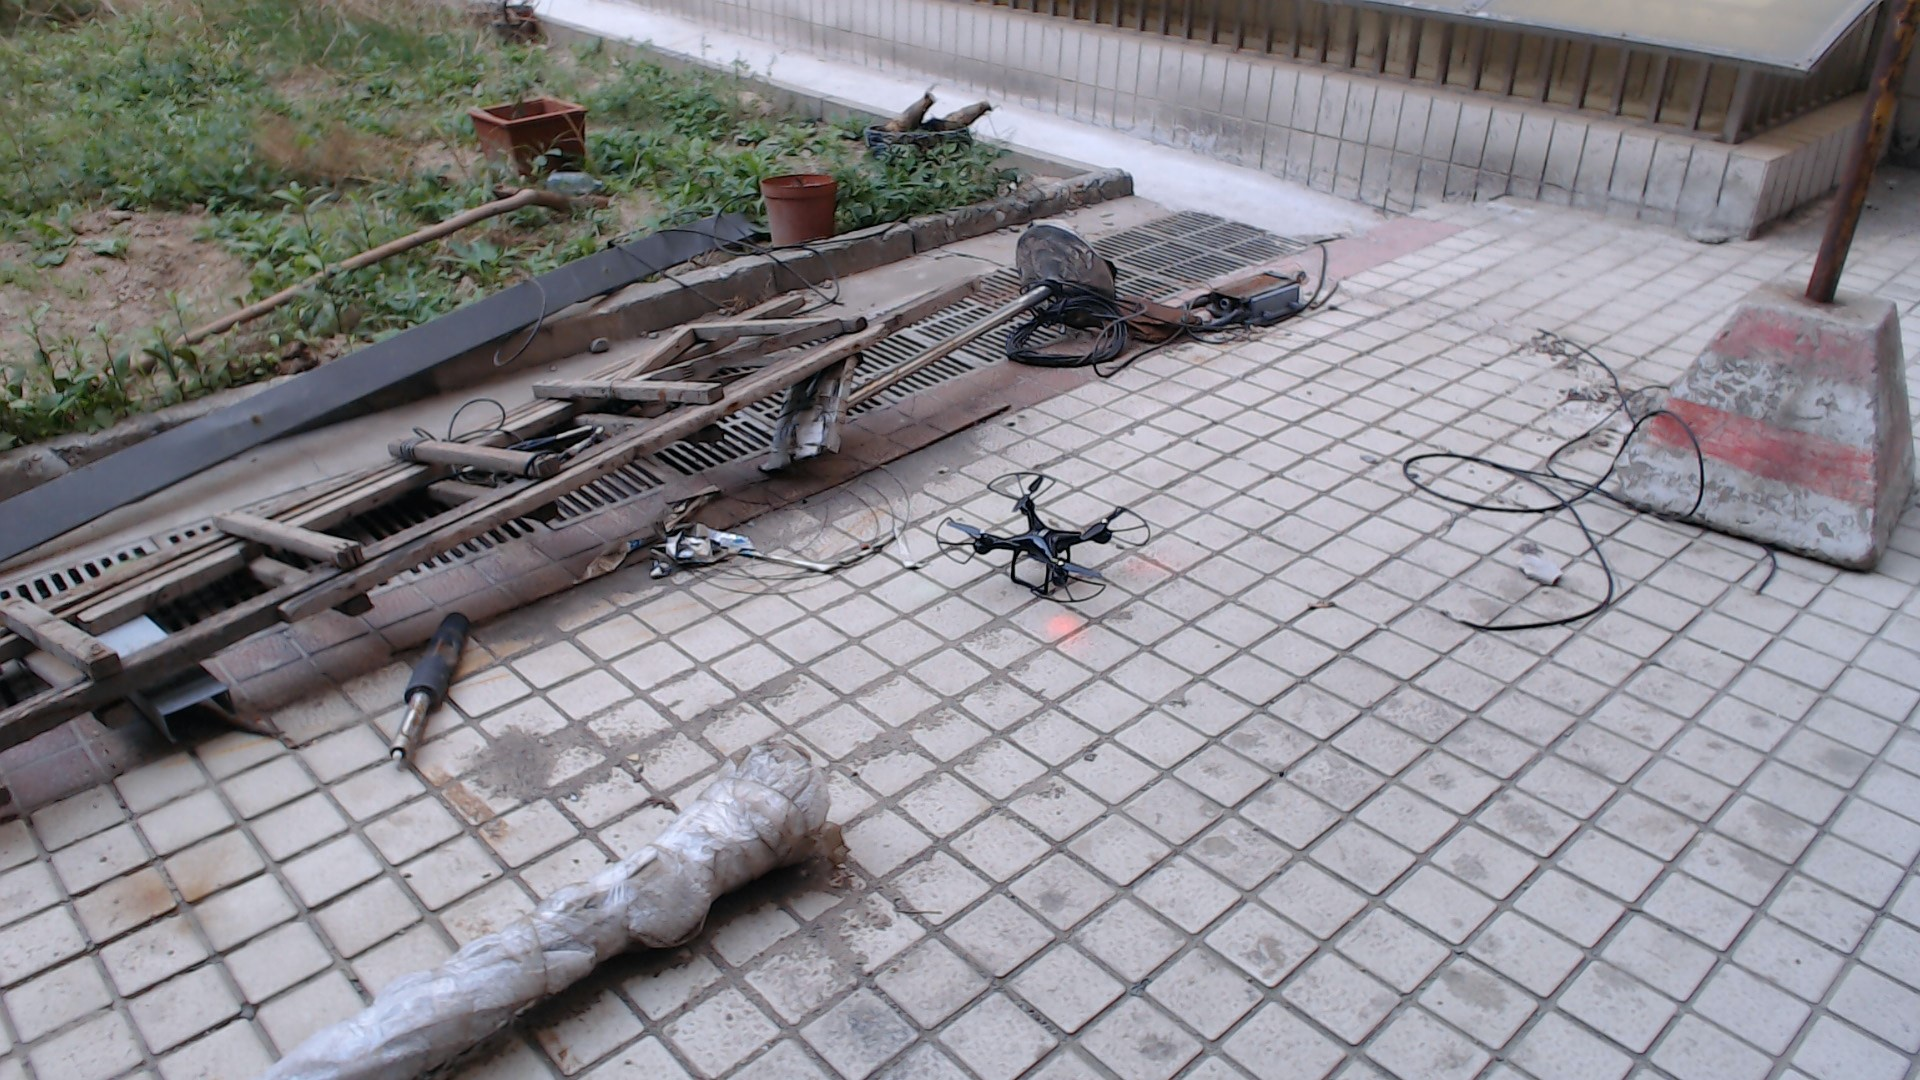drone: (889, 444, 1174, 629)
